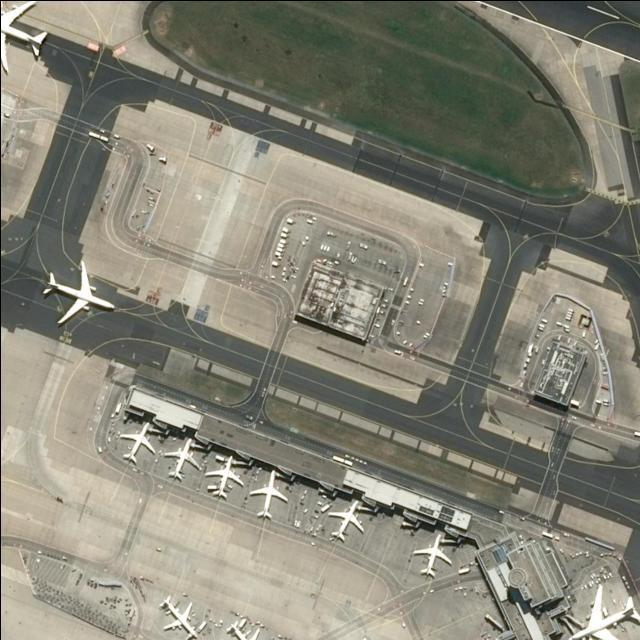Aircraft: (37, 260, 114, 327), (39, 260, 114, 327), (565, 583, 639, 640), (565, 585, 639, 640), (0, 2, 47, 75), (0, 2, 47, 73), (199, 454, 247, 498), (155, 595, 201, 640), (409, 533, 454, 579), (247, 469, 287, 519), (250, 470, 289, 521), (156, 595, 198, 640), (201, 454, 243, 499), (160, 436, 201, 482), (410, 533, 451, 579), (116, 420, 157, 464), (325, 498, 365, 543), (117, 419, 159, 461), (325, 498, 365, 542), (163, 438, 201, 480), (222, 618, 268, 640), (223, 619, 263, 640)
